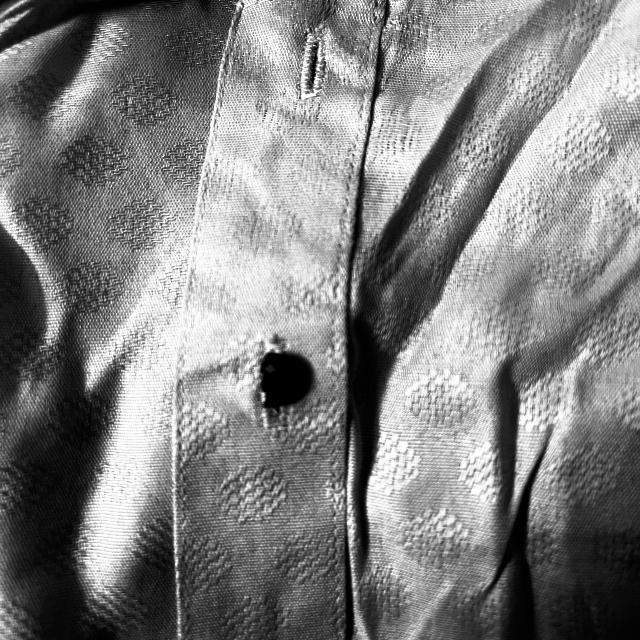Broken_button: (233, 335, 315, 426)
